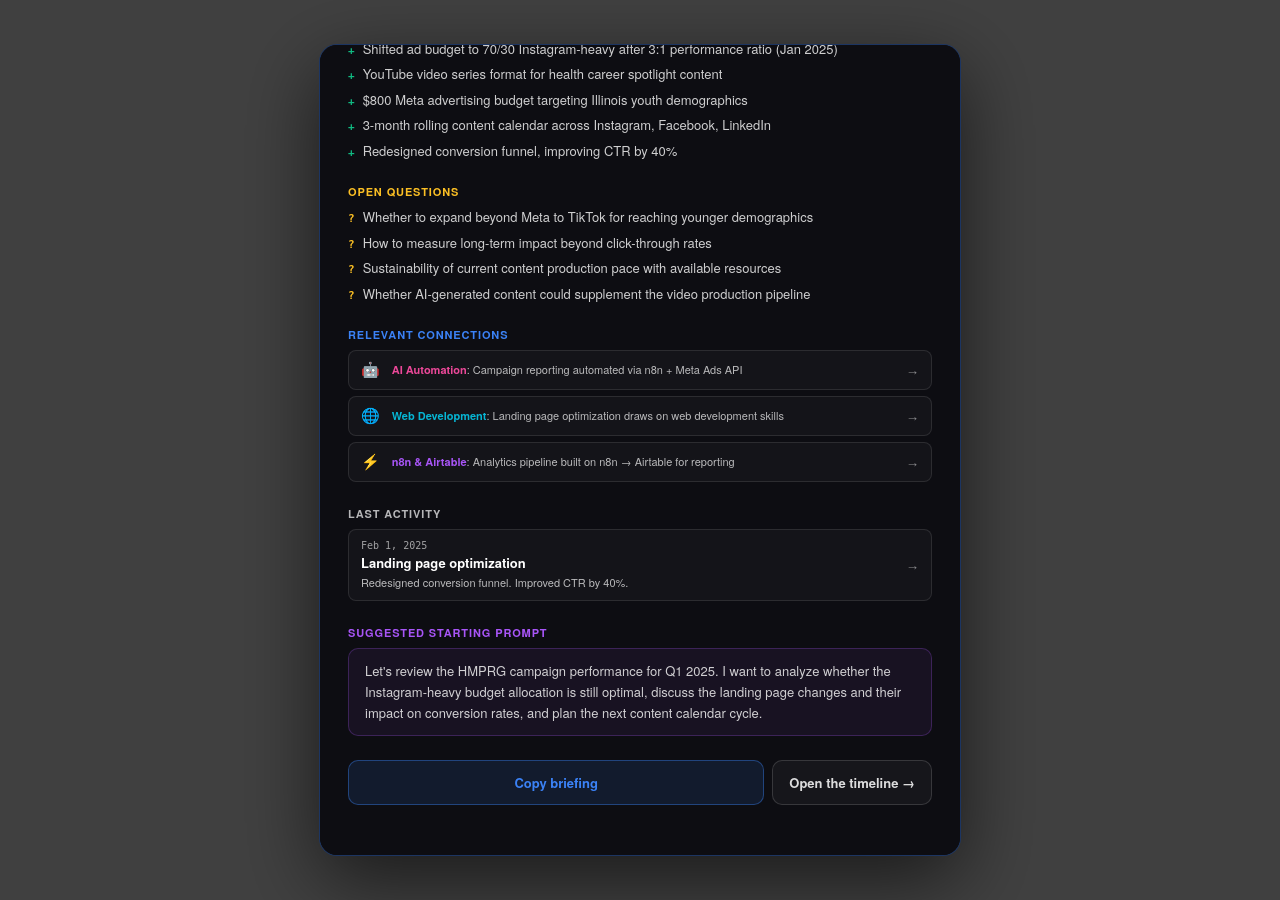
Test: the briefing card › copies the briefing as text and says so
(page scrolled)
Click the button "Copy briefing". click: x=556, y=783
box: [348,760,764,806]
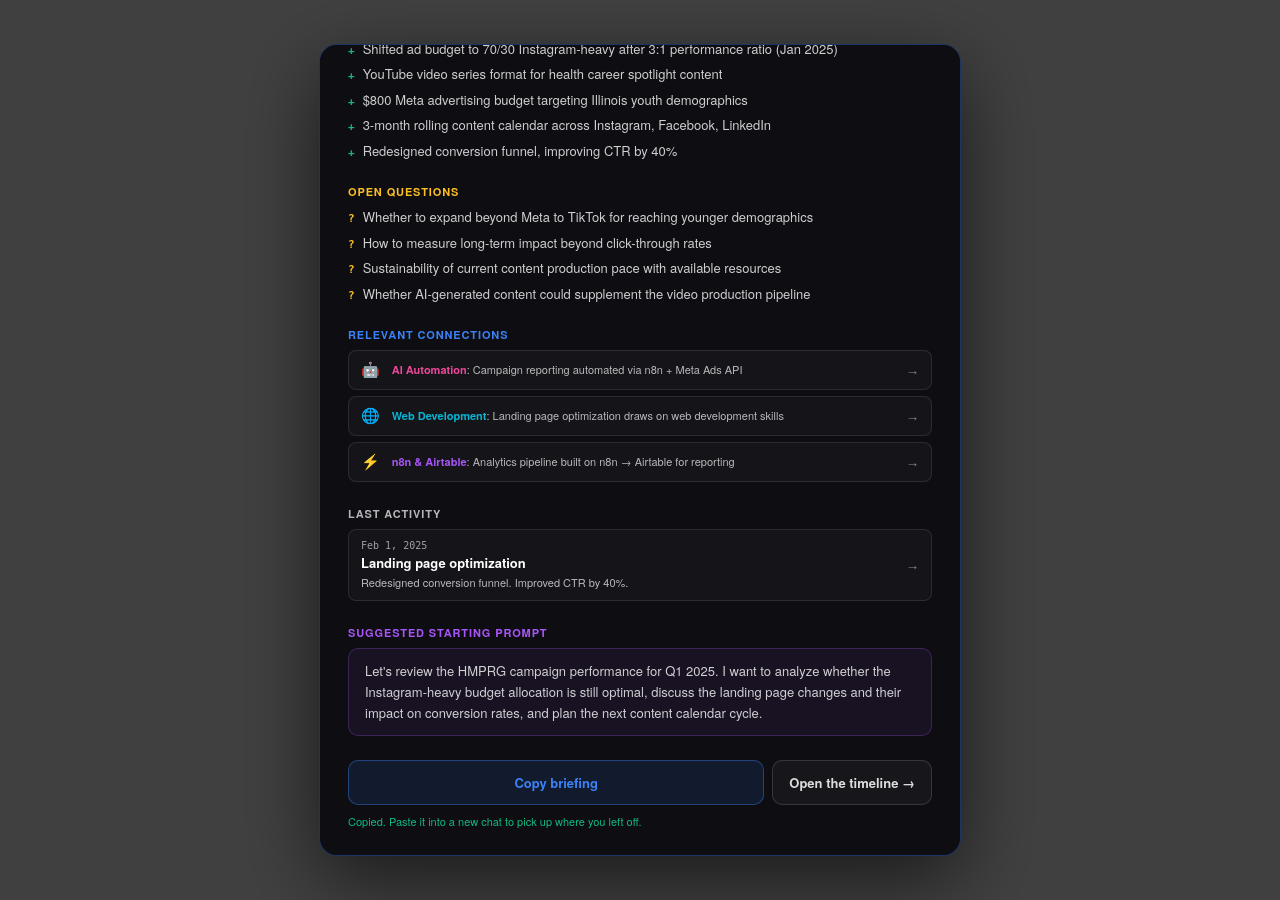
Expected: the message shows "Copied", [348,814,642,830]
